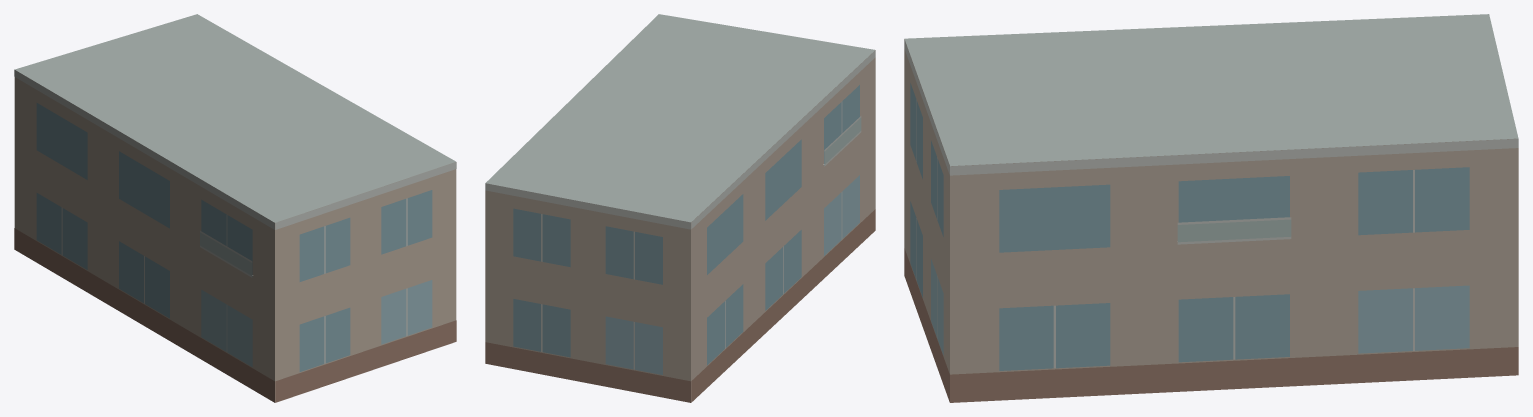
Rendered from survey-upis-32960056.glb.
3 renders of one model, left to right at view 1: azimuth 30°, elevation 25°; view 2: azimuth 150°, elevation 25°; view 3: azimuth 270°, elevation 25°, orthographic. The views are drawn at different scales.
Visible parts, largest first — view 1: survey-upis-32960056.tmp; view 2: survey-upis-32960056.tmp; view 3: survey-upis-32960056.tmp.
Boxes of the visible parts, left/top/right/bottom form: survey-upis-32960056.tmp: left=14, top=14, right=456, bottom=402; survey-upis-32960056.tmp: left=485, top=14, right=875, bottom=402; survey-upis-32960056.tmp: left=904, top=14, right=1518, bottom=402.
Bounding box in the file's own units: 8.42 × 6.1 × 14.36.
